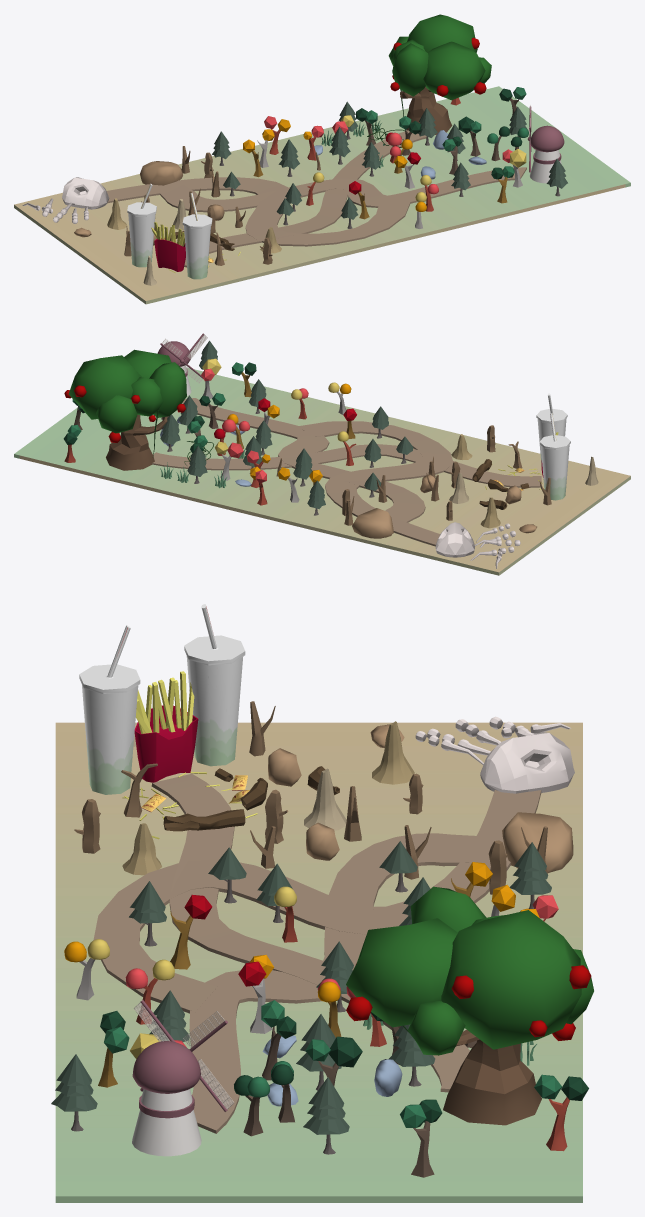
The model's file is platform_v4.fbx.
3 views of the same model, one above another, from view 1: azimuth 30°, elevation 25°; view 2: azimuth 150°, elevation 25°; view 3: azimuth 270°, elevation 25° (orthographic). The views are drawn at different scales.
Visible parts, largest first — view 1: ground, treesleaves, road2, road1, road3, skeleton, cup2, cup1, trunk, rock7, frybox, pSphere1 (+3 smaller); view 2: ground, treesleaves, road2, road1, road3, trunk, skeleton, cup1, rock7, cup2, pSphere1, apples (+2 smaller); view 3: ground, treesleaves, road2, road1, road3, skeleton, cup2, cup1, trunk, pCylinder3, frybox, pSphere1 (+12 smaller).
Part boxes in pixels (<box>): ground: <box>14,86,630,304</box>; treesleaves: <box>388,14,491,100</box>; road2: <box>106,177,410,246</box>; road1: <box>160,167,526,212</box>; road3: <box>184,130,426,267</box>; skeleton: <box>22,177,109,223</box>; cup2: <box>182,193,212,279</box>; cup1: <box>127,183,156,267</box>; trunk: <box>400,87,452,134</box>; rock7: <box>140,161,182,185</box>; frybox: <box>154,238,185,271</box>; pSphere1: <box>530,125,564,152</box>; ground: <box>14,367,630,575</box>; treesleaves: <box>68,349,186,433</box>; road2: <box>296,421,452,546</box>; road1: <box>181,398,425,522</box>; road3: <box>152,444,541,487</box>; trunk: <box>106,414,167,470</box>; skeleton: <box>435,522,520,568</box>; cup1: <box>539,413,570,500</box>; rock7: <box>352,508,393,538</box>; cup2: <box>536,393,567,466</box>; pSphere1: <box>157,341,190,366</box>; apples: <box>64,385,185,442</box>; ground: <box>55,722,582,1202</box>; treesleaves: <box>346,886,593,1055</box>; road2: <box>93,790,541,1013</box>; road1: <box>189,833,489,1133</box>; road3: <box>151,774,469,1092</box>; skeleton: <box>415,716,574,793</box>; cup2: <box>79,625,140,794</box>; cup1: <box>184,604,245,766</box>; trunk: <box>443,1029,541,1125</box>; pCylinder3: <box>132,1089,201,1156</box>; frybox: <box>134,705,198,782</box>; pSphere1: <box>132,1041,200,1093</box>.
Bounding box in the file's own units: 42.78 × 9.24 × 20.76.
34 materials, 3 textured.
